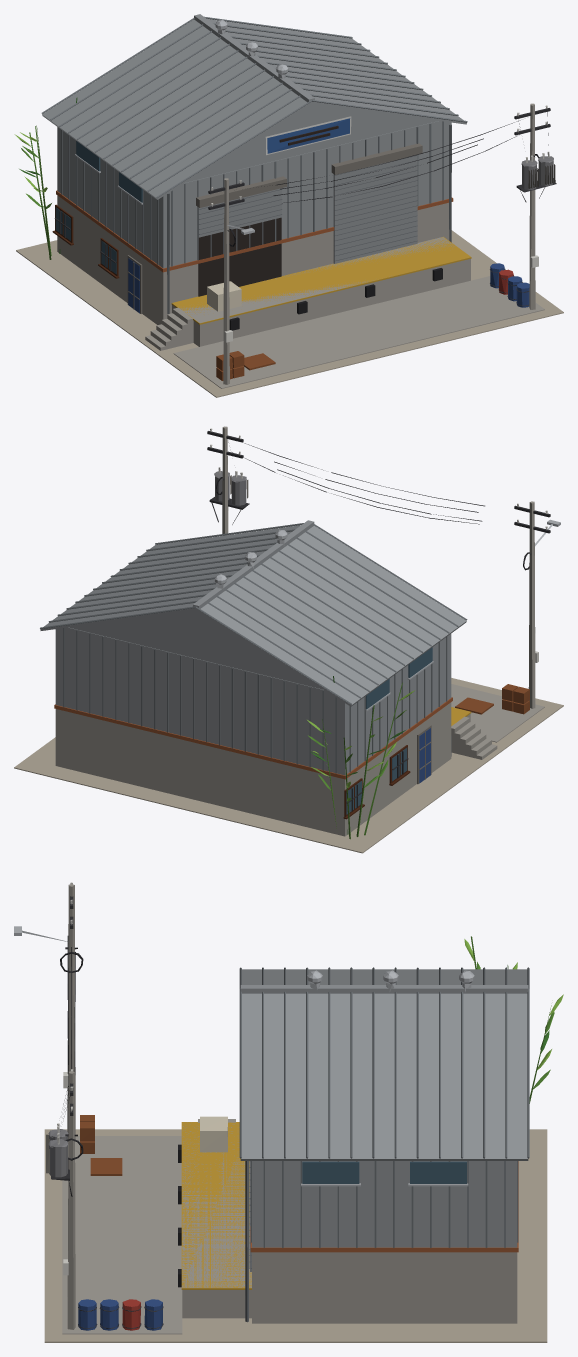
The model's file is factory_2.glb.
3 renders of one model, top to bottom at view 1: azimuth 30°, elevation 25°; view 2: azimuth 150°, elevation 25°; view 3: azimuth 270°, elevation 25°, orthographic. The views are drawn at different scales.
Visible parts, largest first — view 1: body, windows; view 2: body, windows; view 3: body, windows.
Part boxes in pixels (box(x1,y1,x2,y2)): body: box(14, 14, 563, 397); windows: box(55, 141, 281, 296); body: box(14, 426, 563, 853); windows: box(346, 647, 432, 814); body: box(14, 882, 563, 1342); windows: box(302, 1161, 466, 1183).
Bounding box in the file's own units: 16.81 × 9.27 × 17.4.
